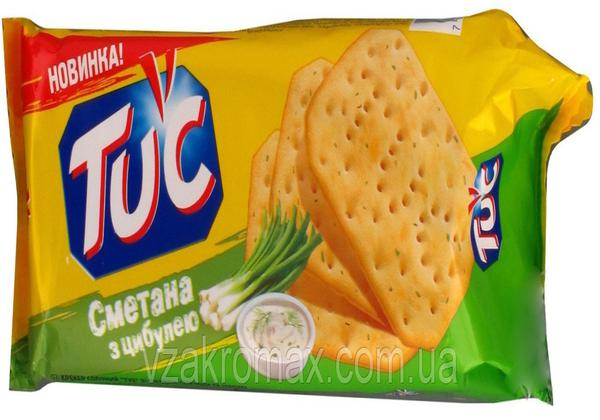crackers tuc: (32, 30, 536, 396)
